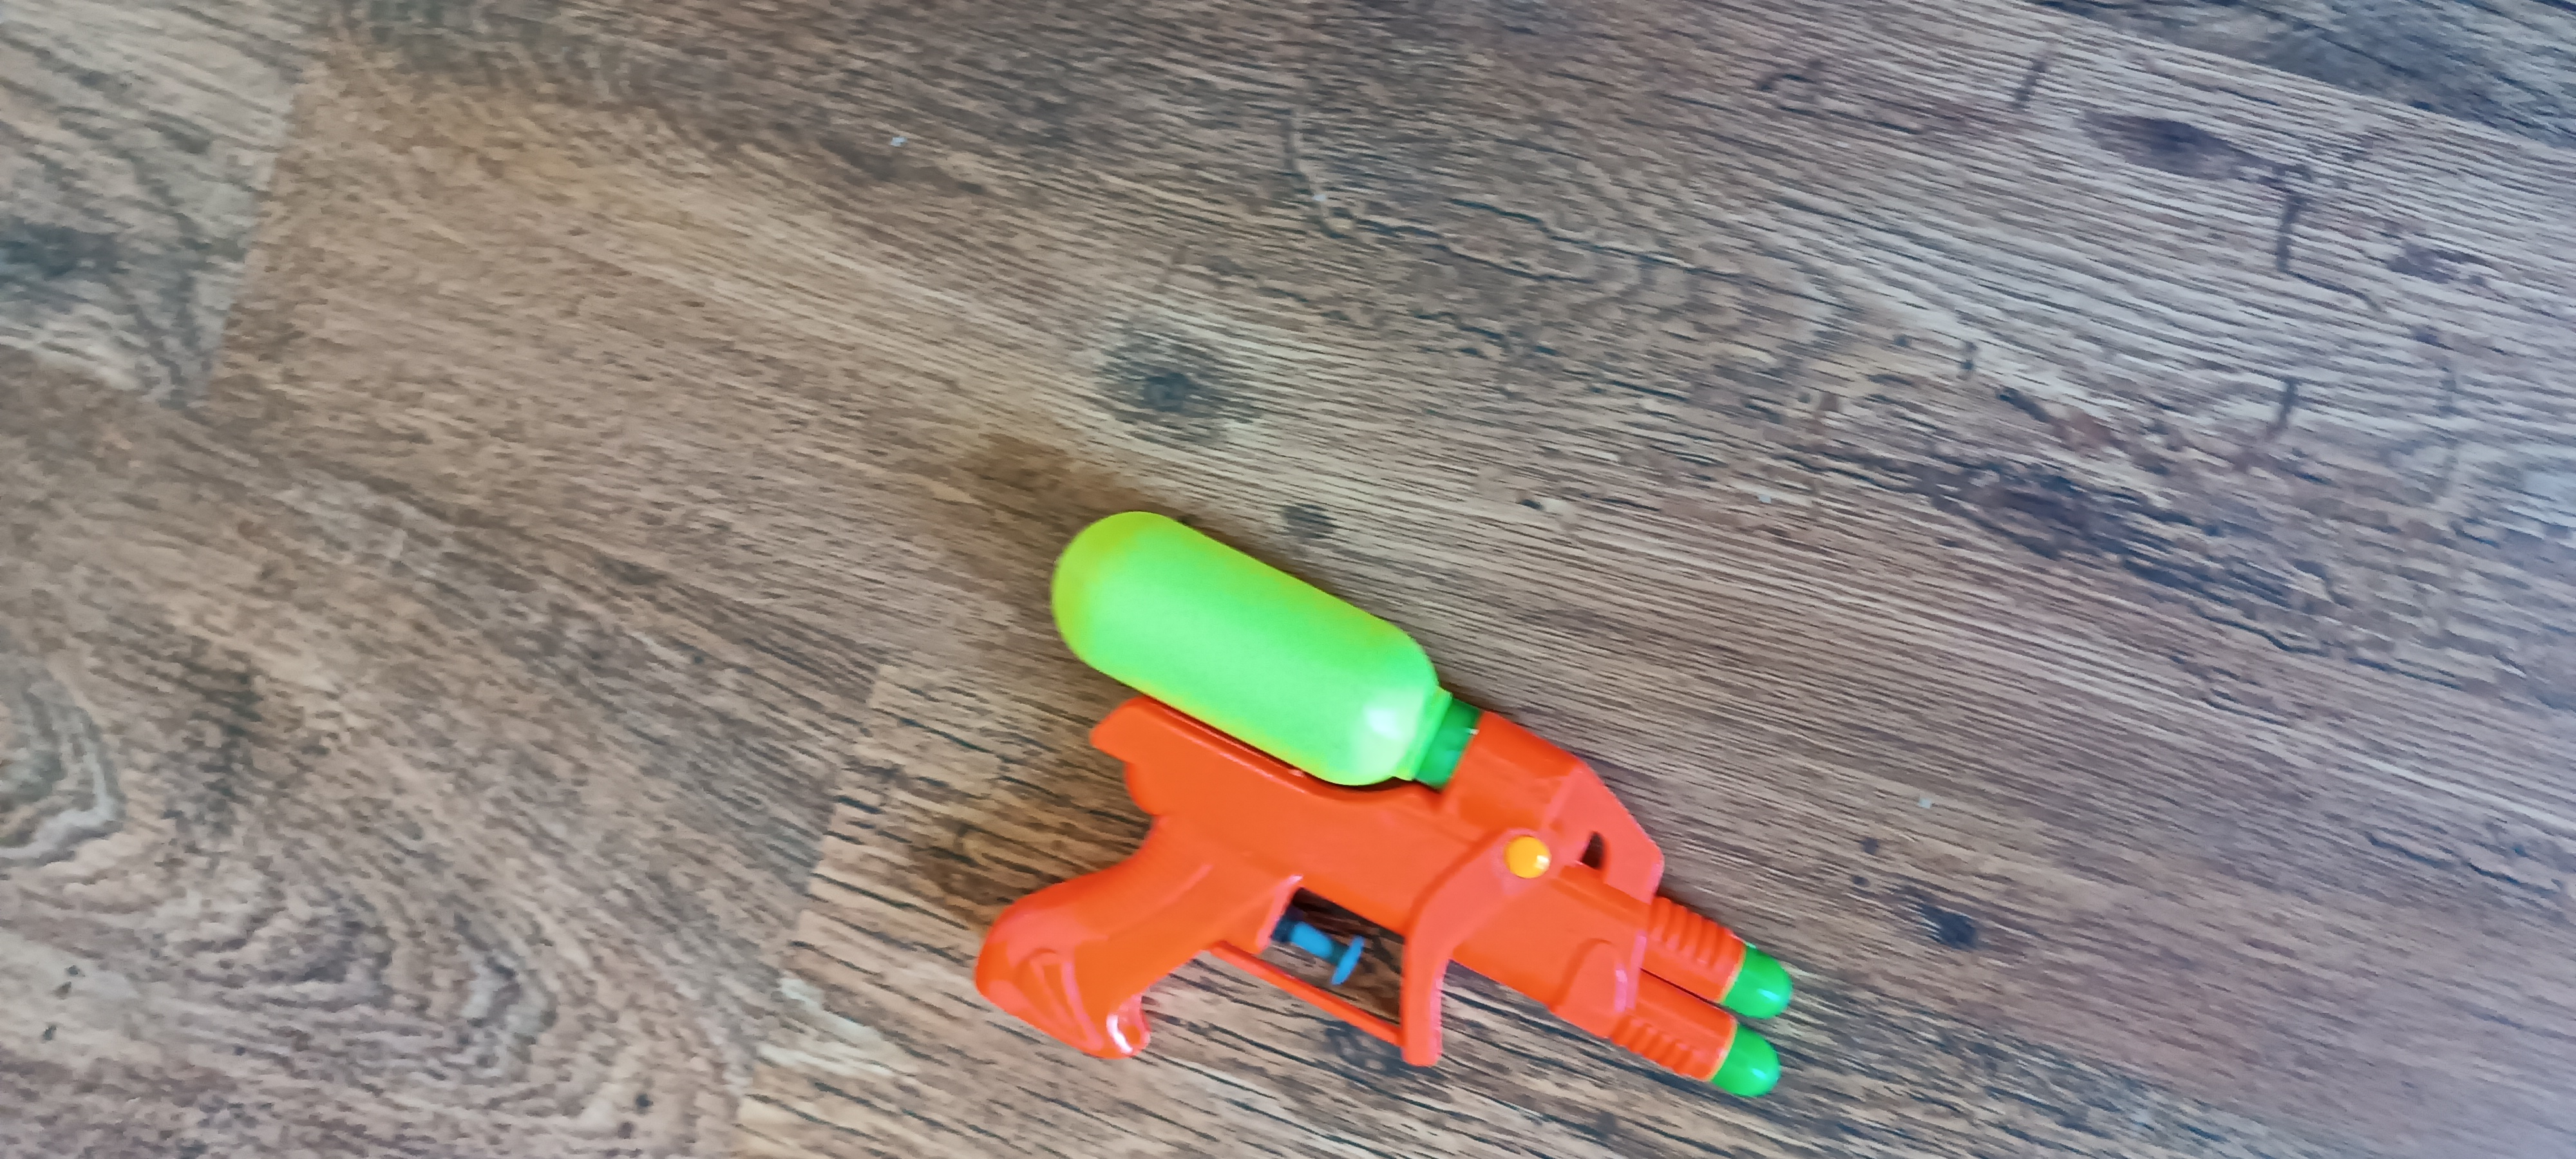Water Gun: (974, 511, 1794, 1098)
